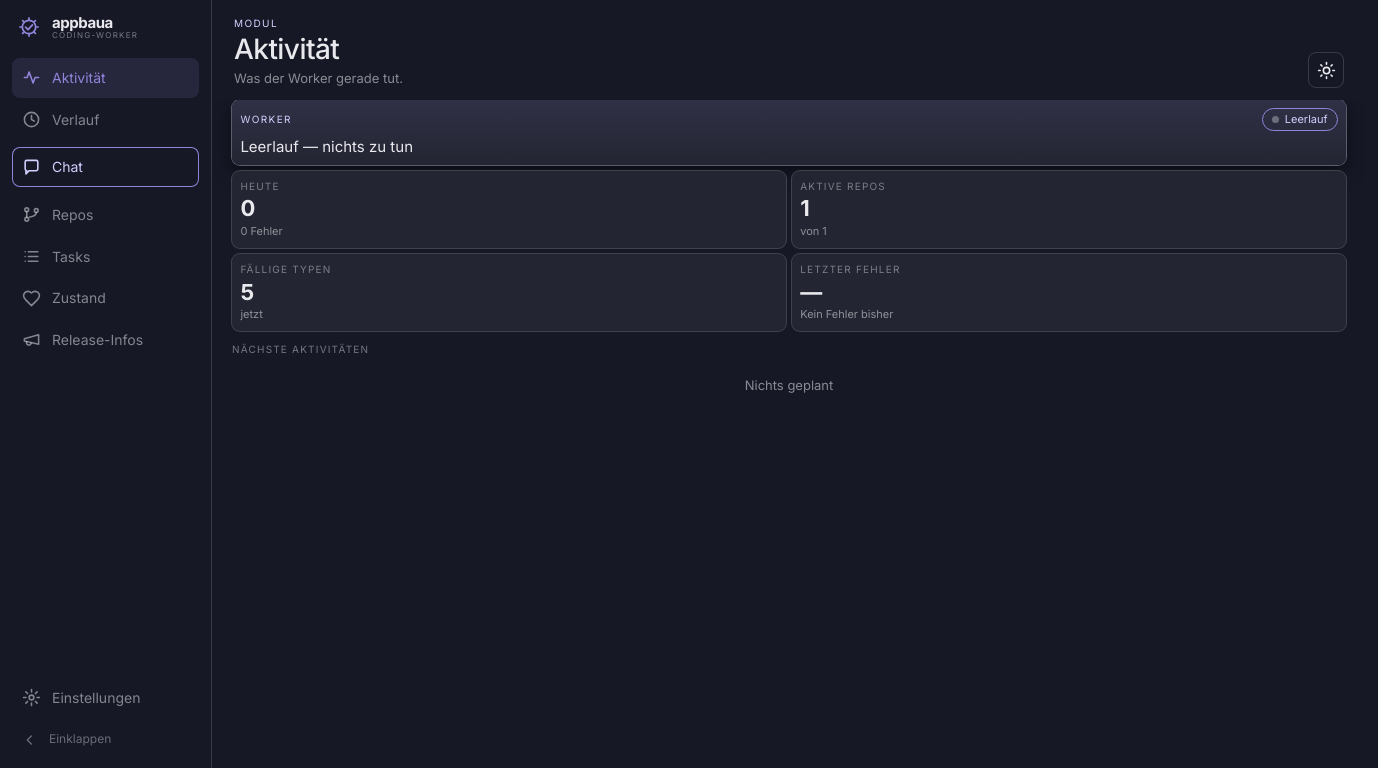
Chat zweispaltig über AppShell (req-041) › AC: bei 1280px zeigt der Chat-Tab die Repo-Liste statt der Dropdown-Auswahl
expect the text "Leerlauf — nichts zu tun" is shown: met, box [240,137,413,156]
Click the button "Chat" at (106, 167), box [12,147,199,187]
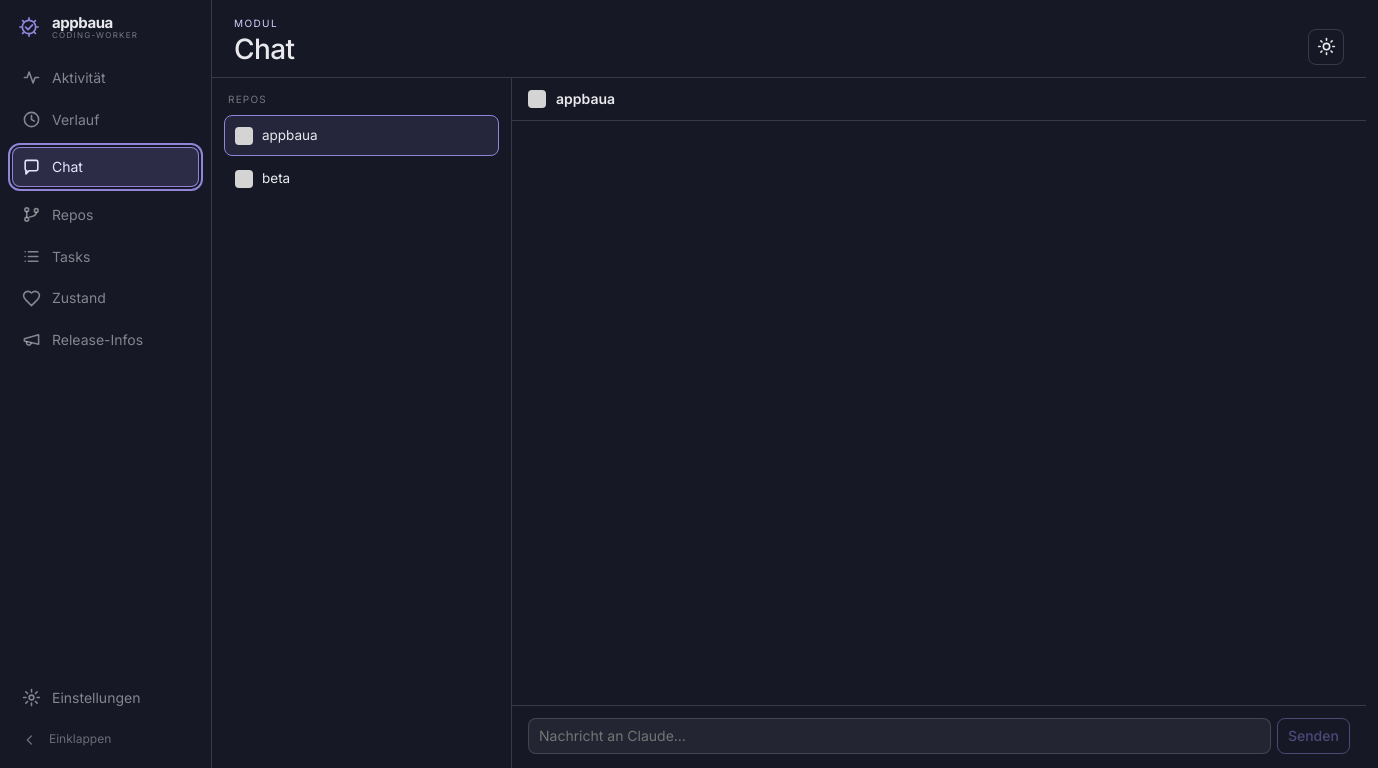
expect the button "beta" is shown: met, box [224,158,499,199]
